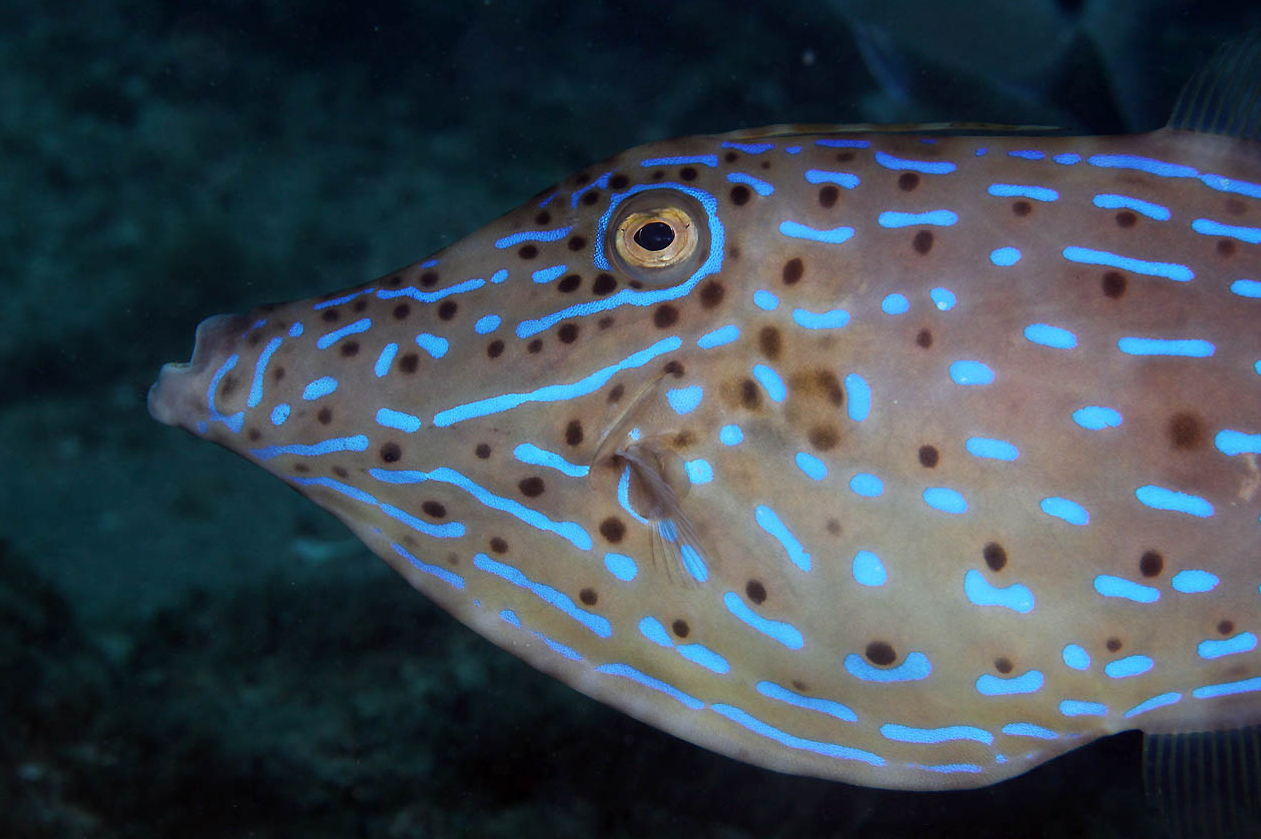Aluterus_scriptus: (128, 48, 1260, 824)
